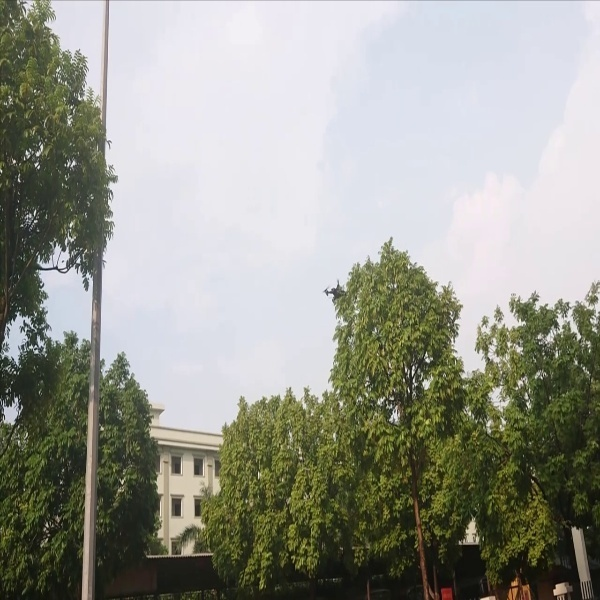drone: (322, 280, 346, 304)
